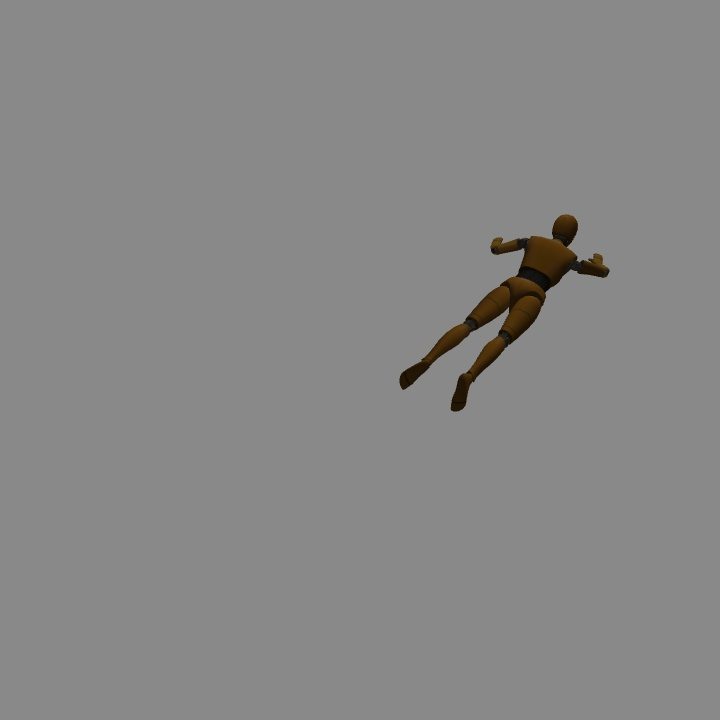victim: (401, 214, 608, 410)
